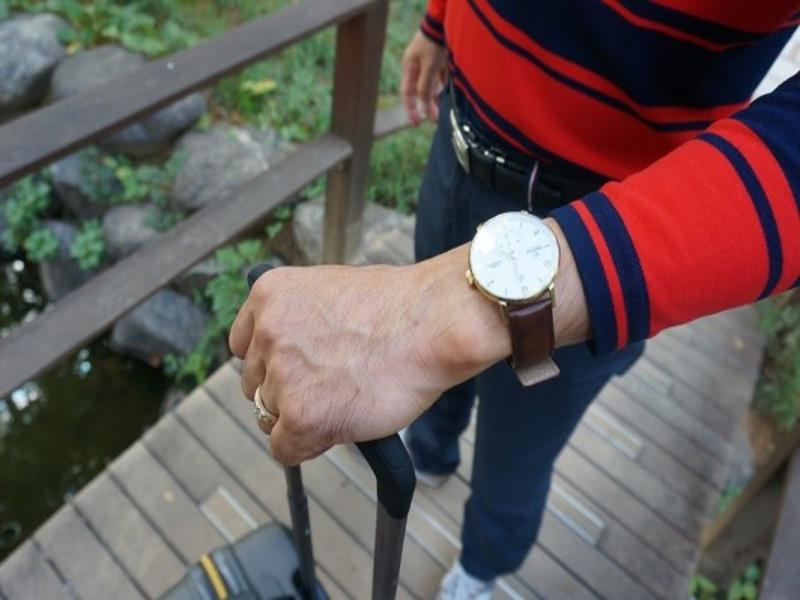watch: (466, 208, 566, 384)
